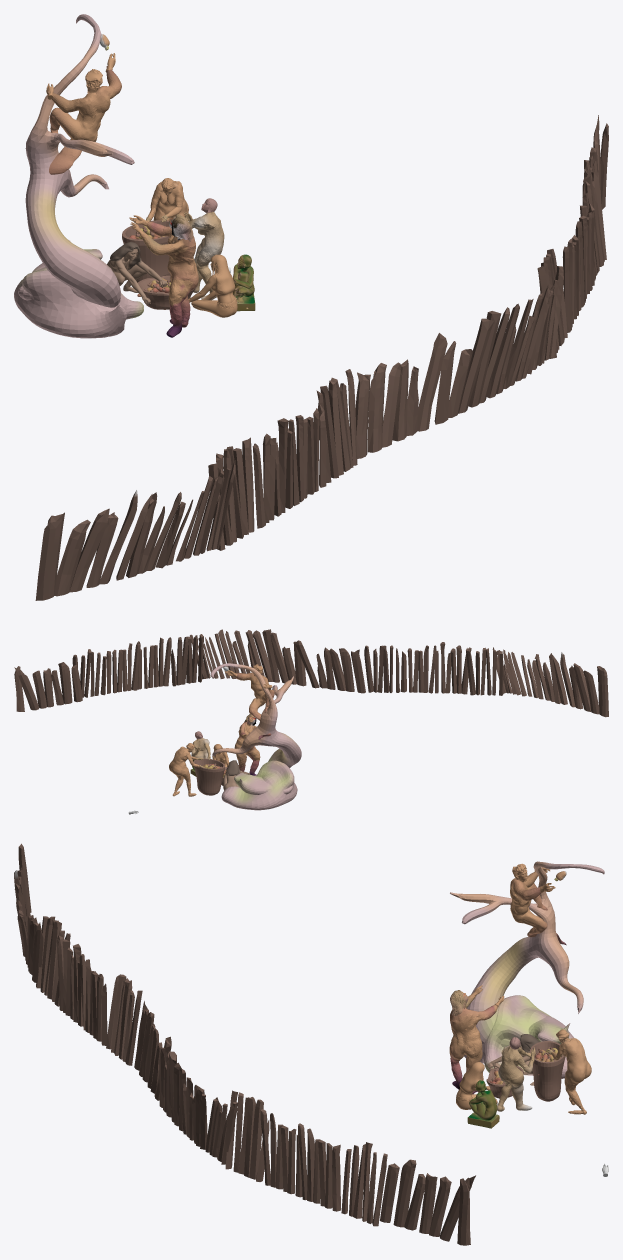
The picture shows the model from 3 angles, top to bottom: view 1: azimuth 30°, elevation 25°; view 2: azimuth 150°, elevation 25°; view 3: azimuth 270°, elevation 25°; orthographic projection. The views are drawn at different scales.
Size of the model in its own units: 23.58 by 8.11 by 17.43.
